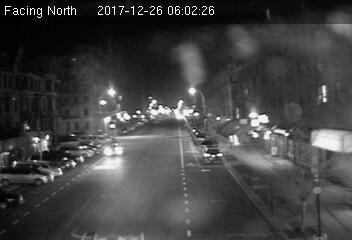car: (200, 146, 225, 164), (103, 142, 125, 156)
